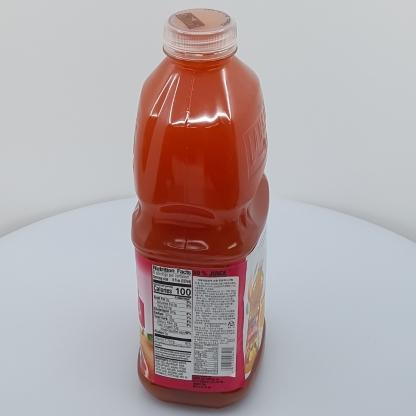-----------1-89L: (131, 8, 269, 408)
